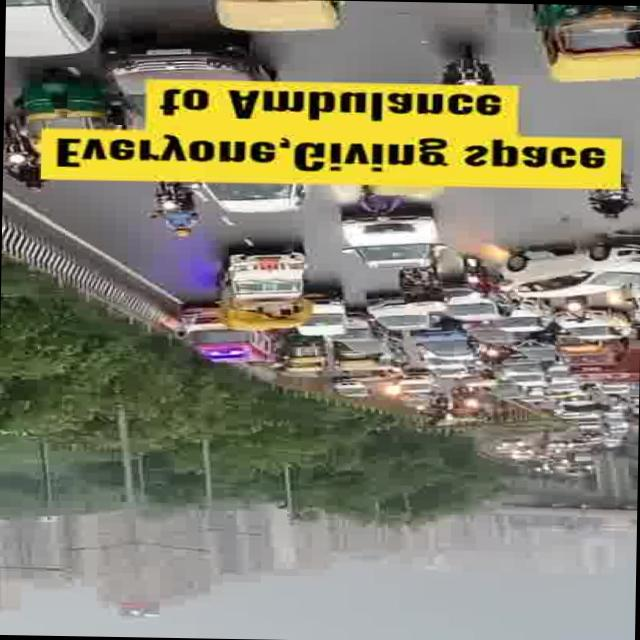ambulance: (177, 306, 276, 368)
